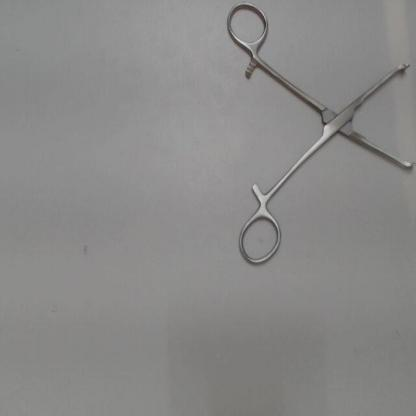Allis Tissue Forceps: (224, 0, 416, 273)
